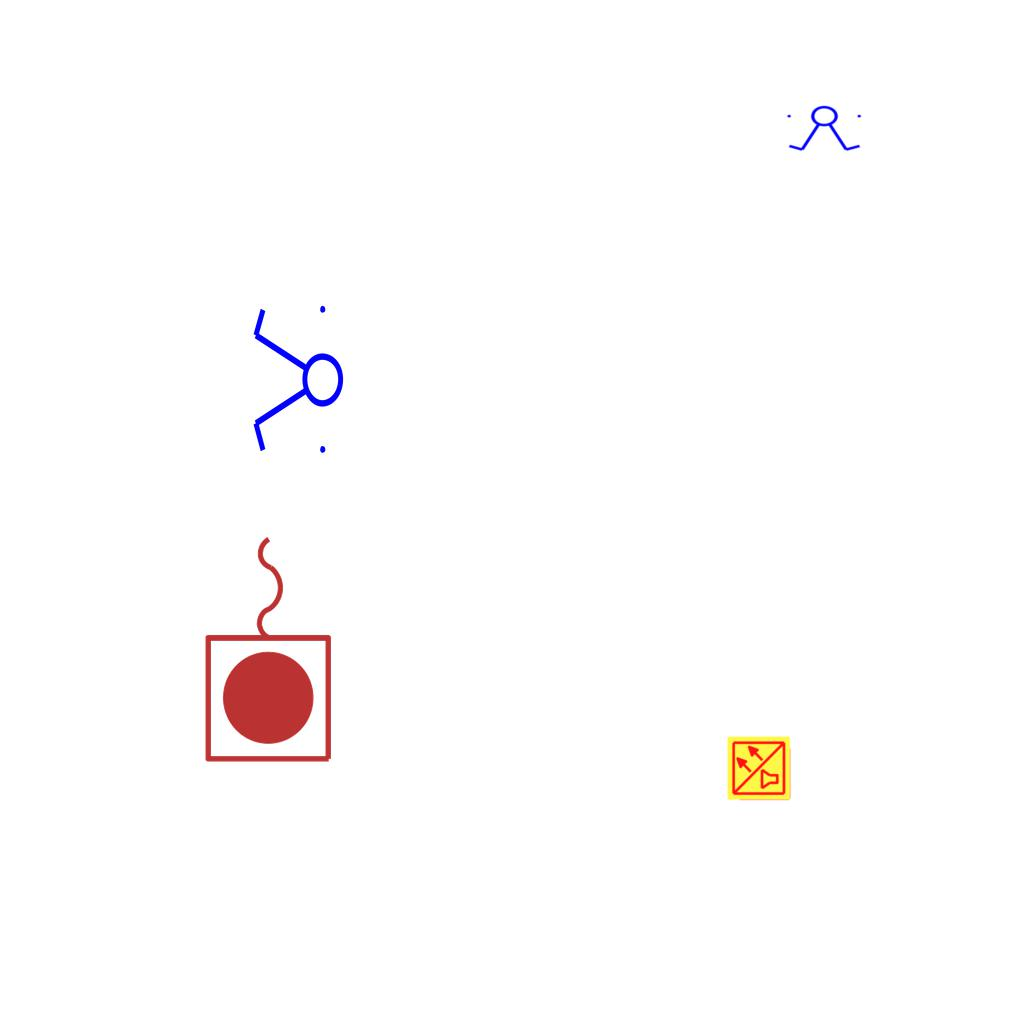OKW_Multisensormelder_(Kombination_optischer_Rauch-Kahlenmonoxid_Waerme-Melder): (726, 735, 792, 801)
Serienschalter: (249, 297, 345, 465), (783, 105, 867, 153)
Zugtaster: (198, 526, 342, 770)
